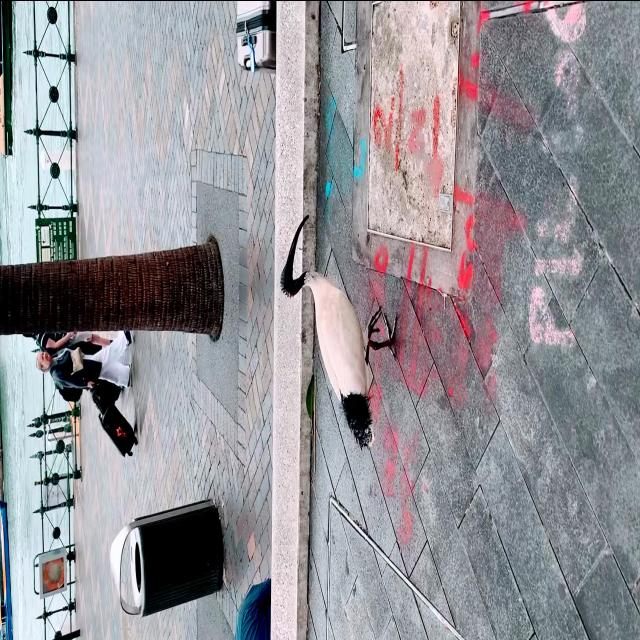Birds-Ibis: (276, 210, 402, 453)
